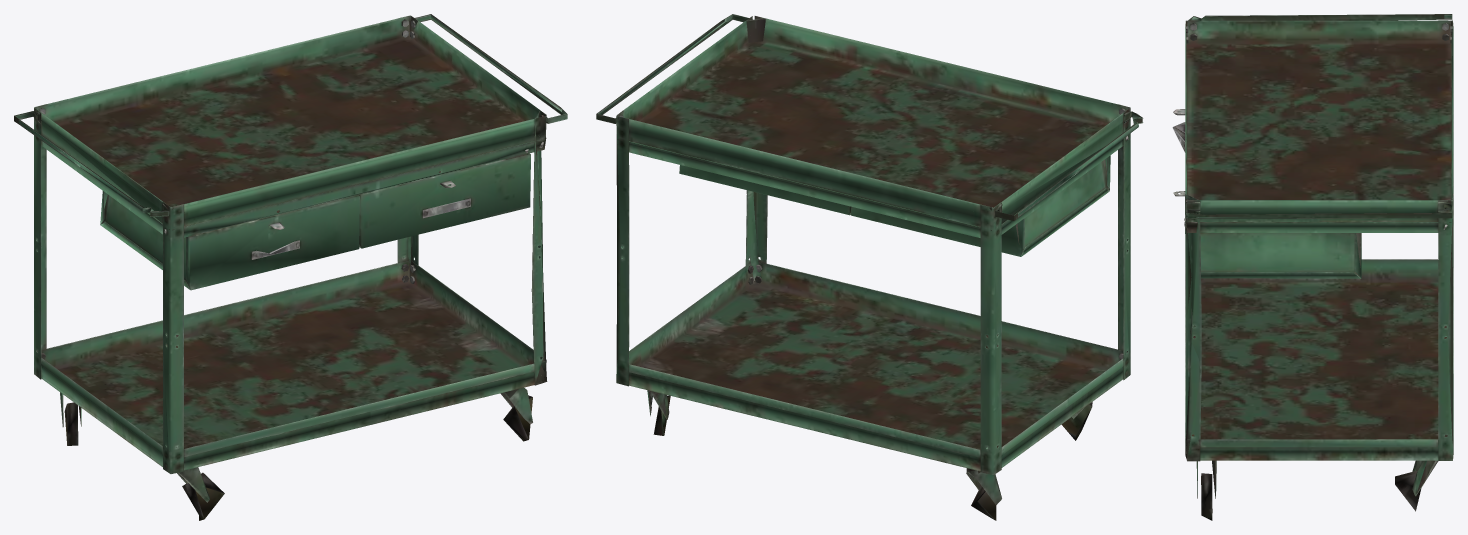
Rendered from g_cart.glb.
3 renders of one model, left to right at view 1: azimuth 30°, elevation 25°; view 2: azimuth 150°, elevation 25°; view 3: azimuth 270°, elevation 25°, orthographic. The views are drawn at different scales.
Visible parts, largest first — view 1: tool_cart; view 2: tool_cart; view 3: tool_cart.
Part boxes in pixels (bbox=[...]): tool_cart: bbox=[14, 14, 567, 520]; tool_cart: bbox=[596, 14, 1143, 520]; tool_cart: bbox=[1172, 14, 1453, 520].
Size of the model in its own units: 1.26 by 0.9572 by 0.7484.
1 material, 1 textured.
